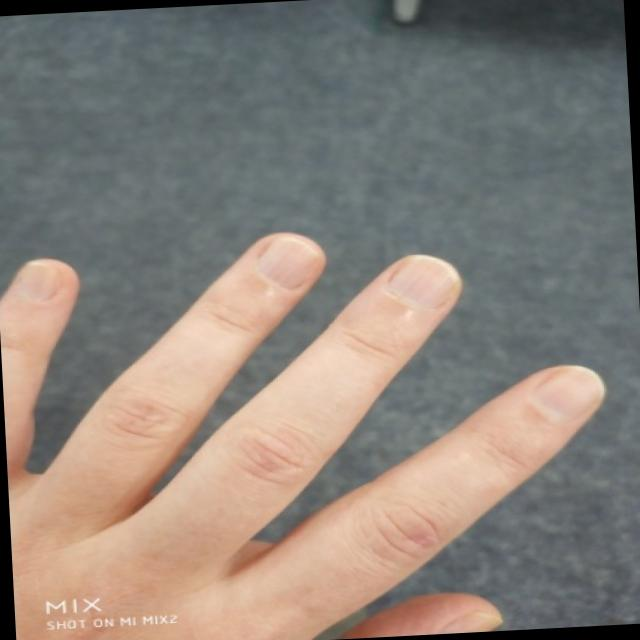Nail: (533, 366, 604, 421), (390, 255, 461, 309), (257, 235, 323, 289), (18, 263, 61, 301), (438, 611, 499, 634)
